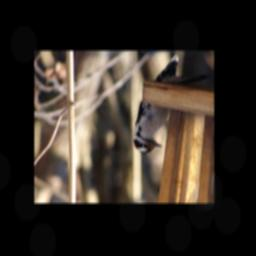Woodpecker: (133, 56, 210, 154)
